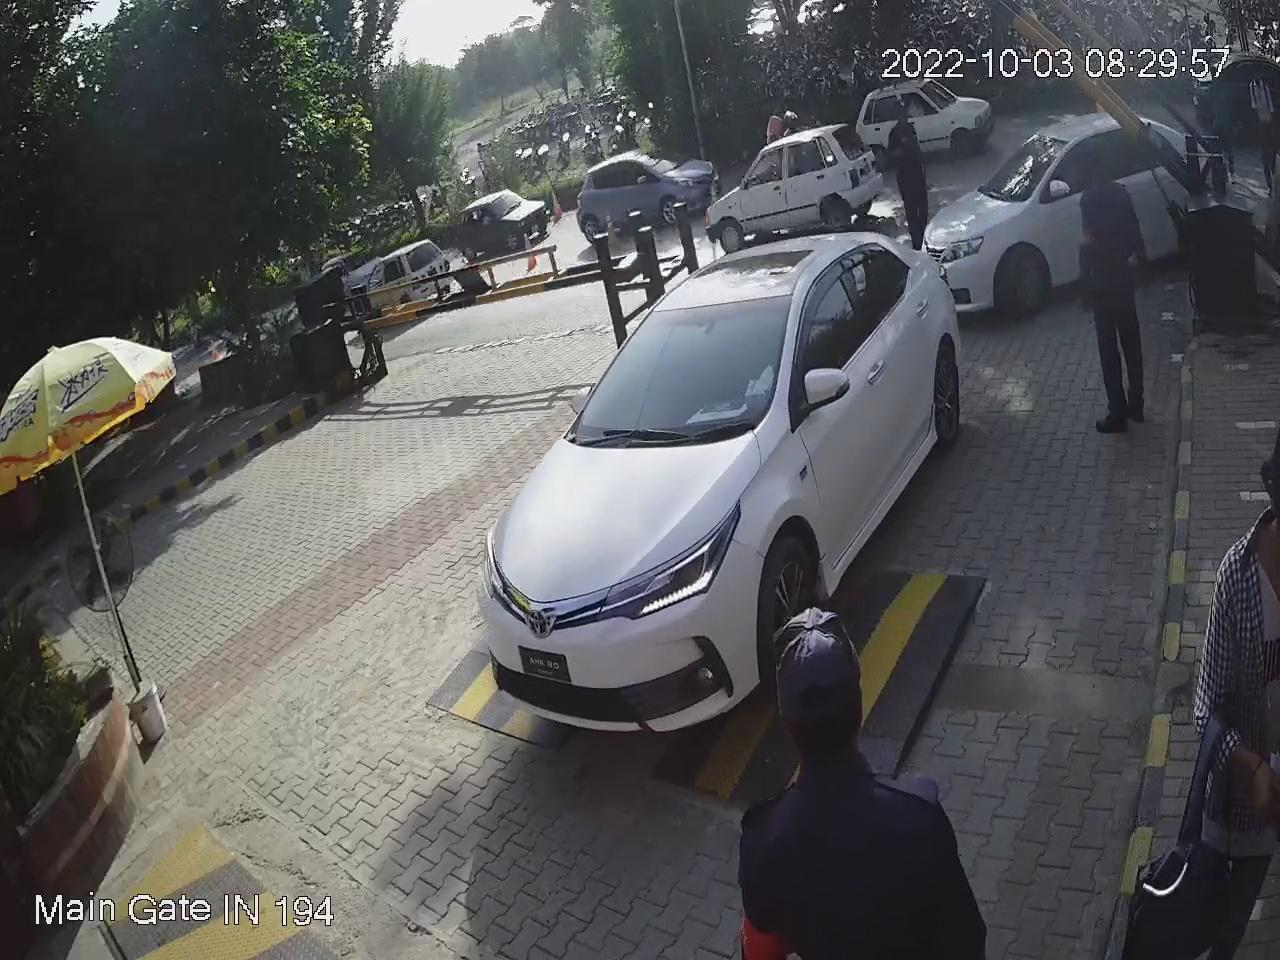windshield: (565, 292, 790, 433)
